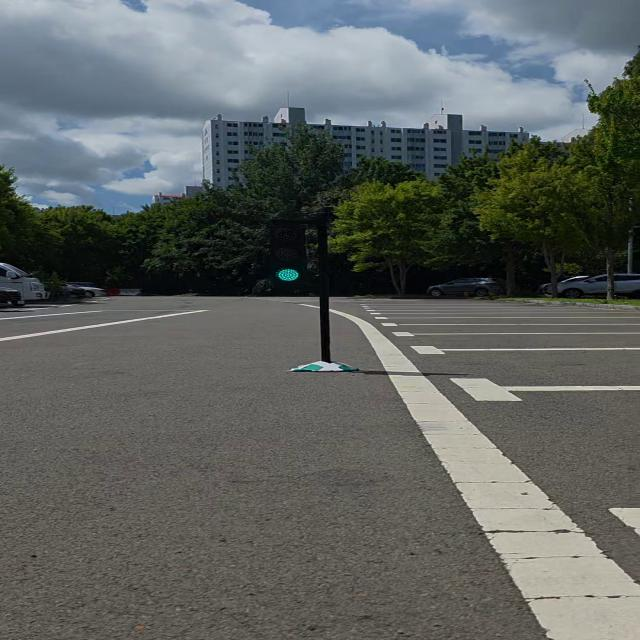green: (262, 218, 311, 288)
